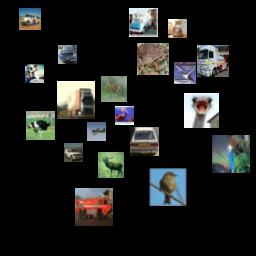airplane: (174, 62, 196, 84), (87, 122, 106, 141)
automobile: (130, 127, 159, 156), (64, 143, 83, 162), (58, 45, 77, 64)
bird: (149, 168, 187, 206), (212, 135, 250, 173), (184, 93, 219, 128), (26, 111, 55, 140), (115, 106, 134, 125)
cat: (168, 19, 187, 38)
deer: (101, 76, 127, 102), (98, 152, 124, 178)
dog: (25, 64, 44, 83)
frog: (137, 43, 169, 75)
truck: (75, 188, 113, 226), (57, 81, 95, 119), (197, 45, 229, 77), (129, 8, 158, 37), (19, 8, 41, 30)
